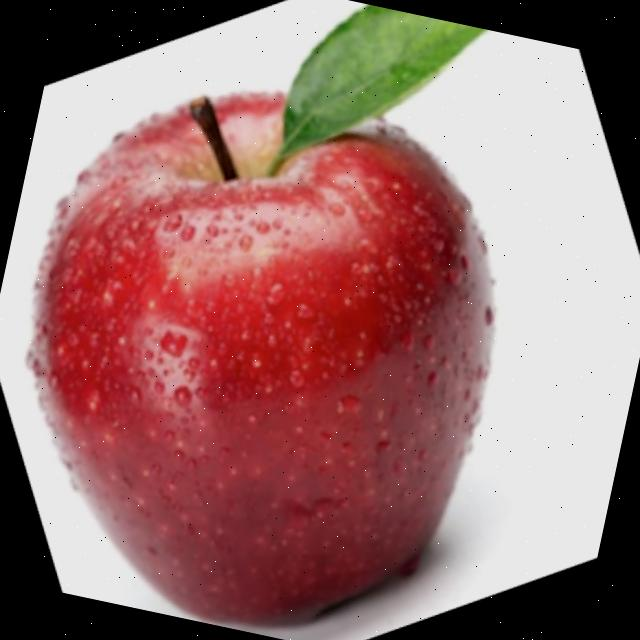Ripe: (0, 35, 547, 640)
